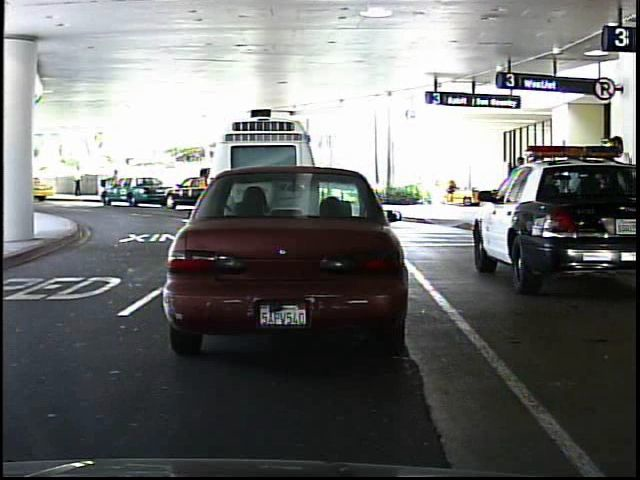person: (601, 132, 636, 251), (504, 151, 530, 218), (106, 166, 125, 202), (72, 162, 86, 198)
